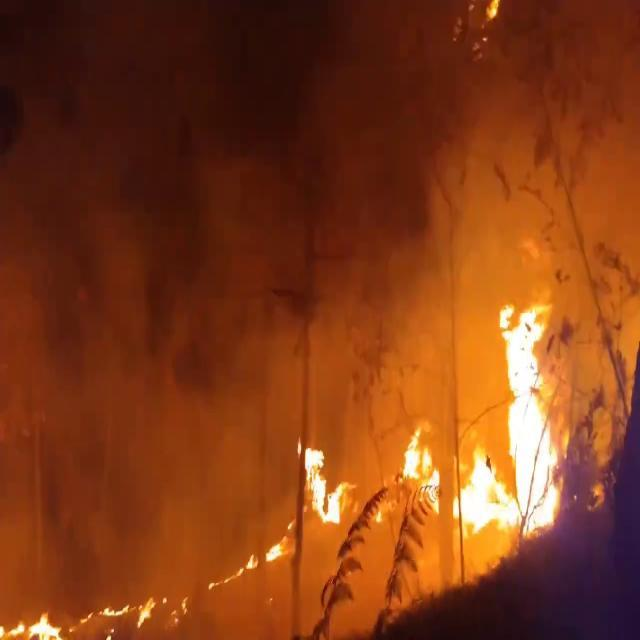Fire: (398, 294, 574, 542), (298, 434, 350, 530)
Smoke: (0, 0, 492, 533)
